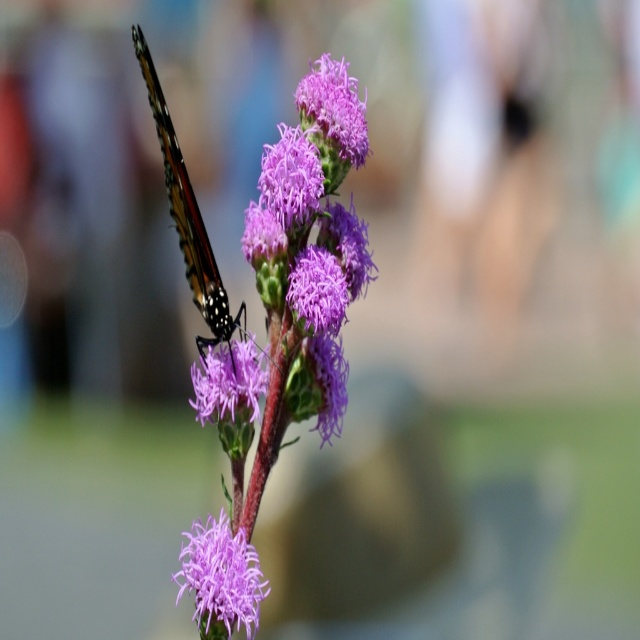Butterfly: (135, 26, 247, 379)
